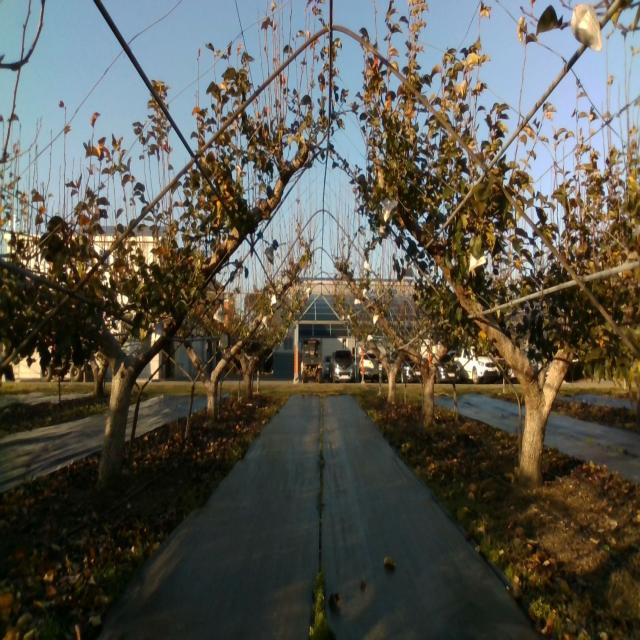pearbags: (570, 3, 603, 51), (382, 196, 398, 223), (149, 324, 164, 350), (469, 253, 486, 273)
